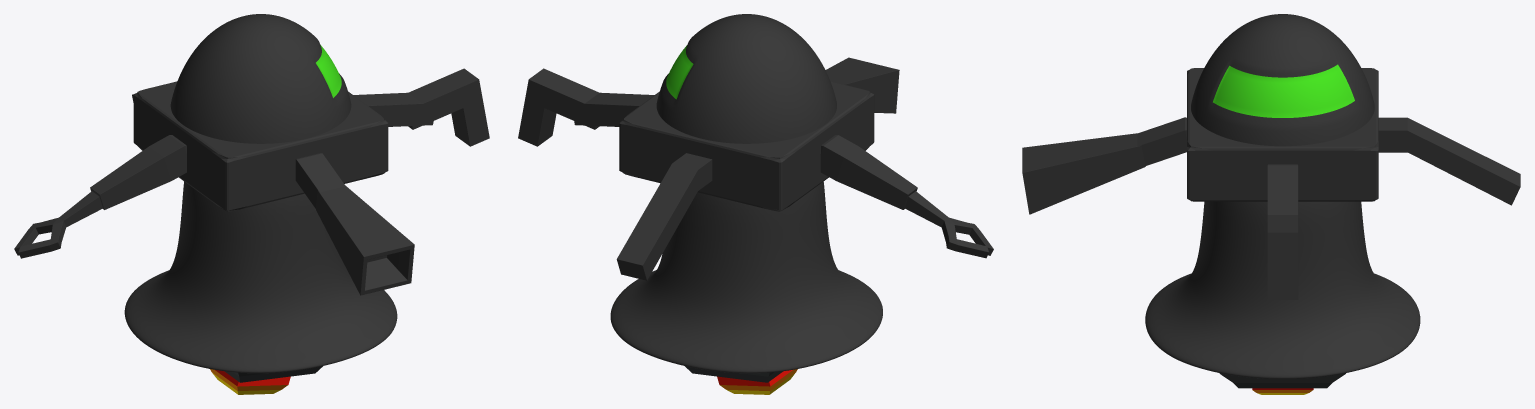
File: robot 1.fbx
The picture shows the model from 3 angles, left to right: view 1: azimuth 30°, elevation 25°; view 2: azimuth 150°, elevation 25°; view 3: azimuth 270°, elevation 25°; orthographic projection.
Parts seen in each view (by area): view 1: Body, Arms, Head, Circle, Fire, Thruster; view 2: Body, Arms, Head, Circle, Fire, Thruster; view 3: Body, Head, Arms, Circle, Thruster.
Part boxes in pixels (x1=…): Body: x1=124, y1=181, x2=397, y2=373; Arms: x1=14, y1=68, x2=489, y2=295; Head: x1=170, y1=14, x2=351, y2=143; Circle: x1=133, y1=81, x2=388, y2=211; Fire: x1=210, y1=369, x2=290, y2=394; Thruster: x1=225, y1=366, x2=322, y2=382; Body: x1=610, y1=181, x2=882, y2=373; Arms: x1=518, y1=57, x2=993, y2=280; Head: x1=656, y1=14, x2=836, y2=143; Circle: x1=619, y1=81, x2=874, y2=211; Fire: x1=717, y1=369, x2=797, y2=394; Thruster: x1=685, y1=366, x2=782, y2=382; Body: x1=1145, y1=201, x2=1420, y2=378; Head: x1=1191, y1=14, x2=1374, y2=146; Arms: x1=1022, y1=117, x2=1520, y2=299; Circle: x1=1187, y1=68, x2=1378, y2=201; Thruster: x1=1219, y1=373, x2=1345, y2=388.
Size of the model in its own units: 455 by 342 by 413.
